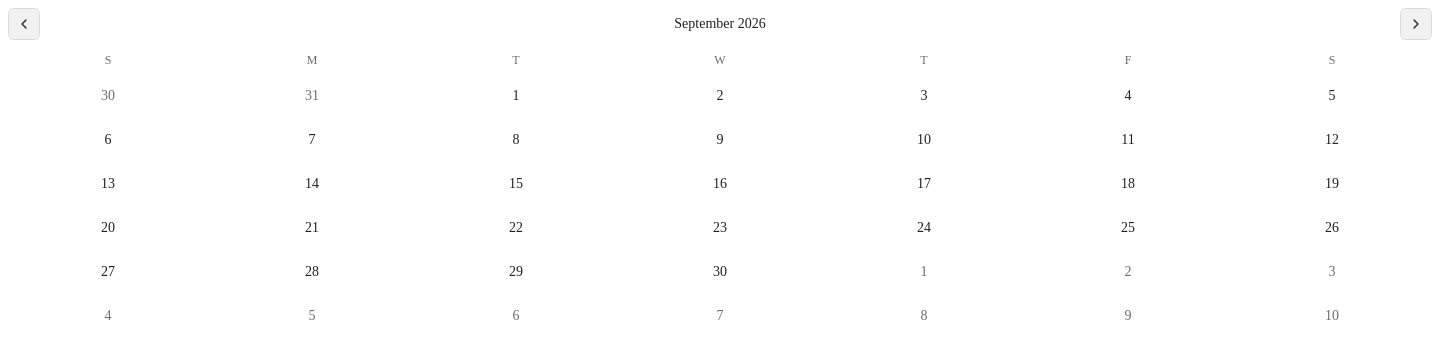
Test: Calendar › the arrows change the month and report it; a value set from outside brings its month in
Click the button named "Next month". click: (1416, 24)
box: [1400,8,1432,40]
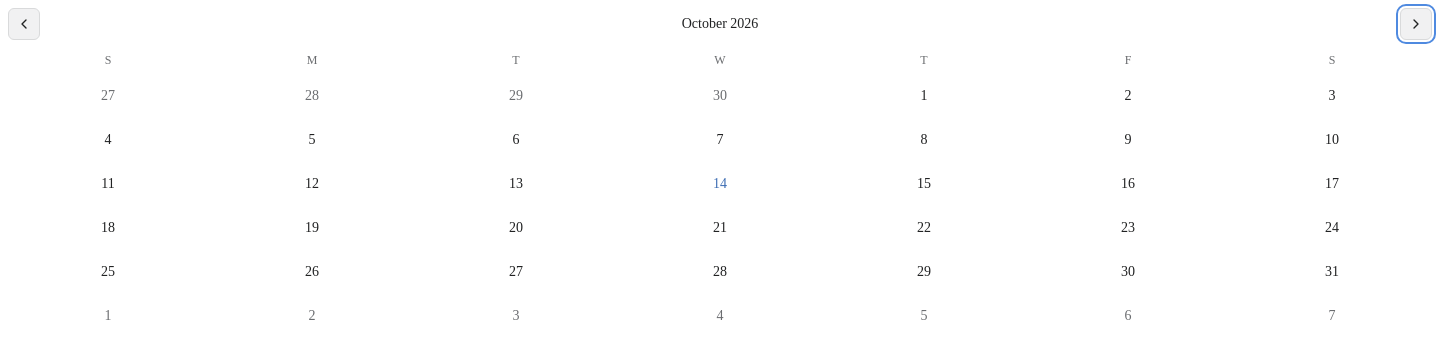
Result: the text "October 2026" is shown at [682,16,758,31]
Click the button named "Previous month". click: (24, 24)
box: [8,8,40,40]
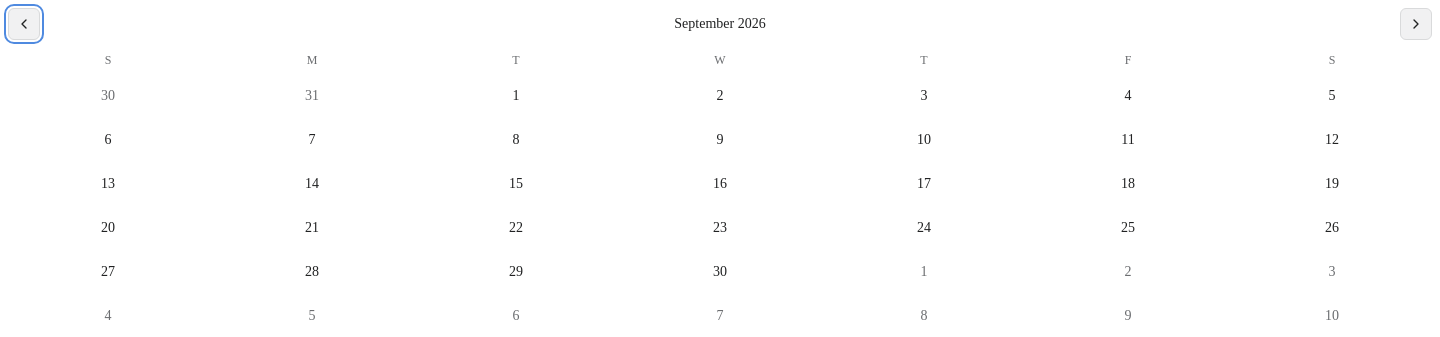
Click the button named "Previous month". click: (24, 24)
box: [8,8,40,40]
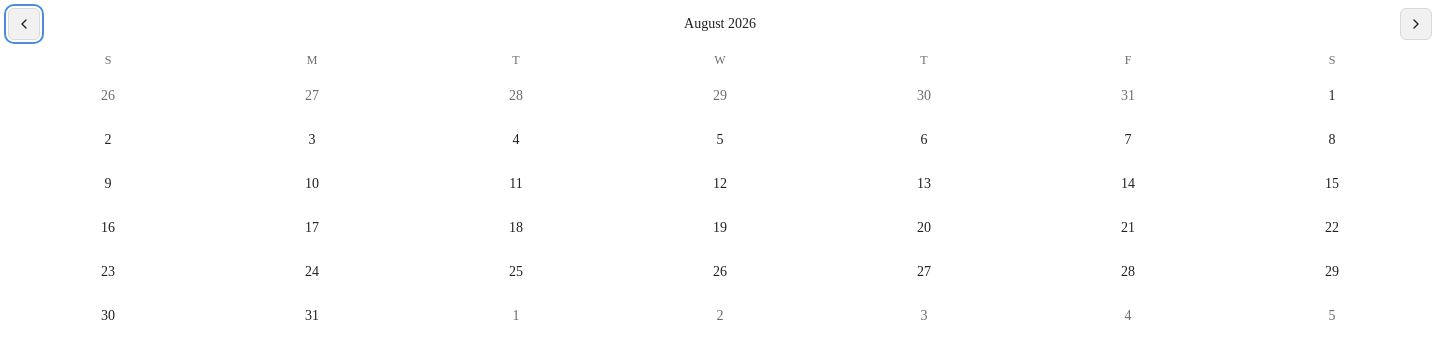
Result: the text "August 2026" is shown at [684,16,756,31]
